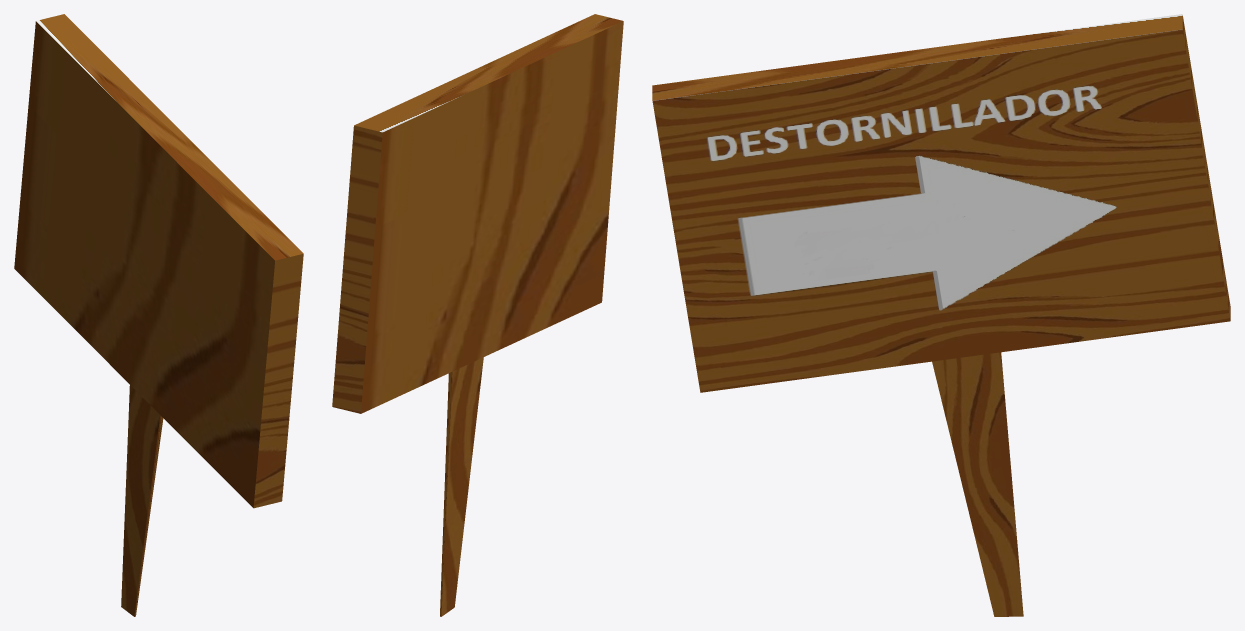
File: CartelDestornillador.fbx
The picture shows the model from 3 angles, left to right: view 1: azimuth 30°, elevation 25°; view 2: azimuth 150°, elevation 25°; view 3: azimuth 270°, elevation 25°; orthographic projection. The views are drawn at different scales.
Visible parts, largest first — view 1: Cube; view 2: Cube; view 3: Cube.
Boxes of the visible parts, x1,y1,x2,y2 form: Cube: (14, 14, 303, 616); Cube: (332, 14, 623, 616); Cube: (652, 14, 1230, 616).
Size of the model in its own units: 38.49 by 691 by 609.
1 material, 1 textured.
